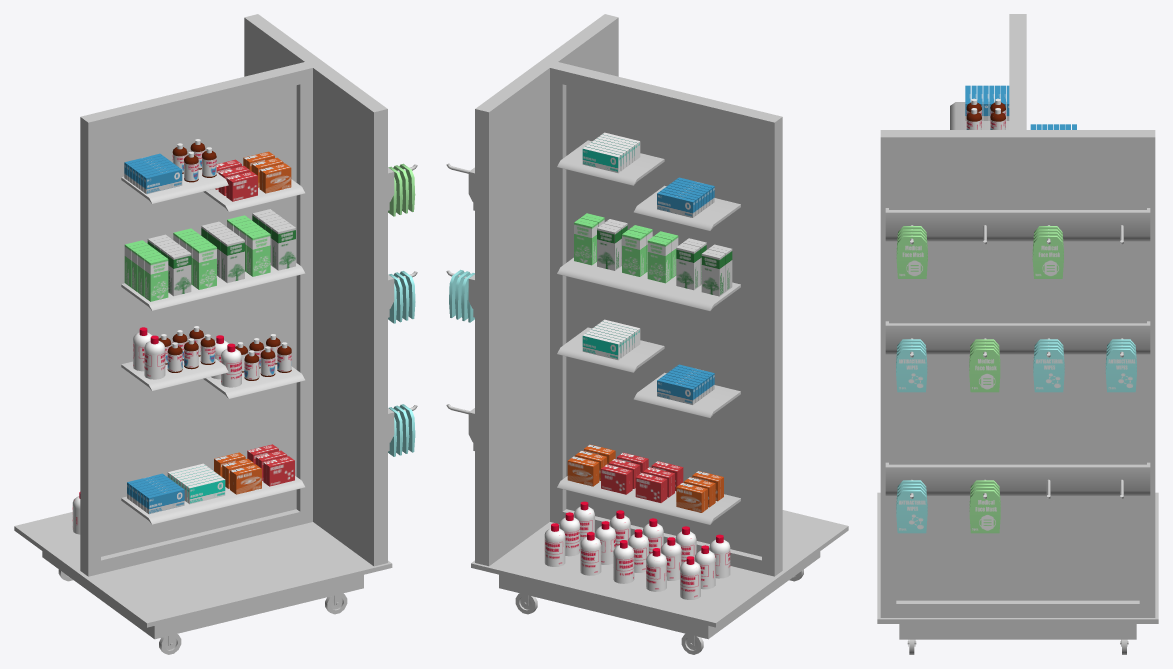
File: Showcase.fbx
3 renders of one model, left to right at view 1: azimuth 30°, elevation 25°; view 2: azimuth 150°, elevation 25°; view 3: azimuth 270°, elevation 25°, orthographic. The views are drawn at different scales.
Parts seen in each view (by area): view 1: Showcase; view 2: Showcase; view 3: Showcase.
Part boxes in pixels (bbox=[...]): Showcase: bbox=[14, 14, 417, 654]; Showcase: bbox=[446, 14, 848, 654]; Showcase: bbox=[877, 14, 1158, 654].
Size of the model in its own units: 112 by 189 by 90.09.
